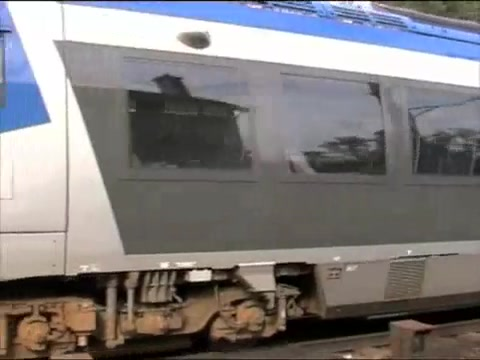train: (1, 3, 480, 360)
